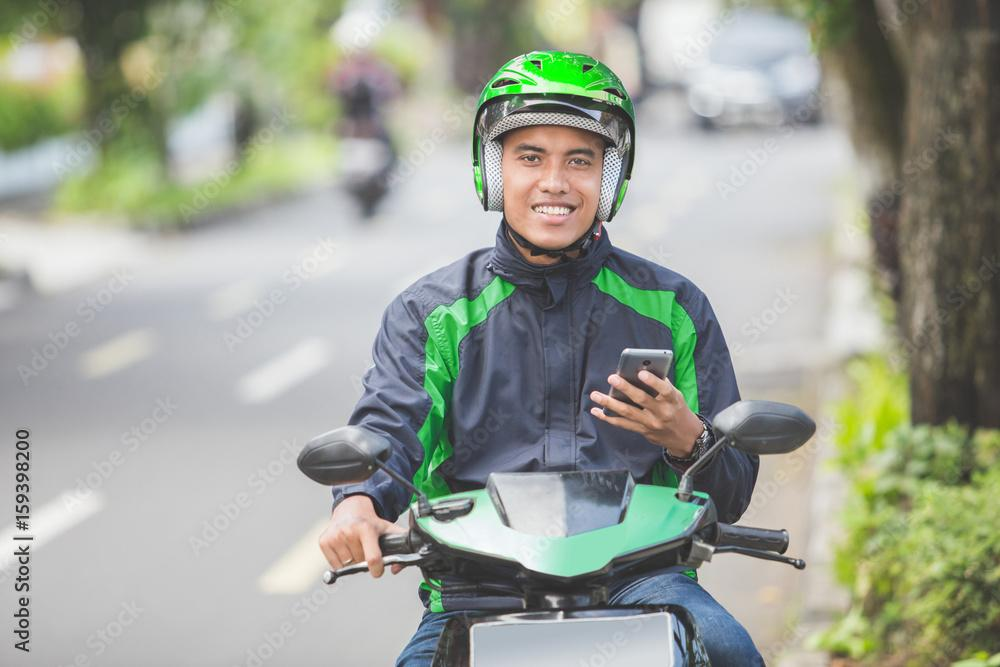helmet: (469, 49, 638, 260)
